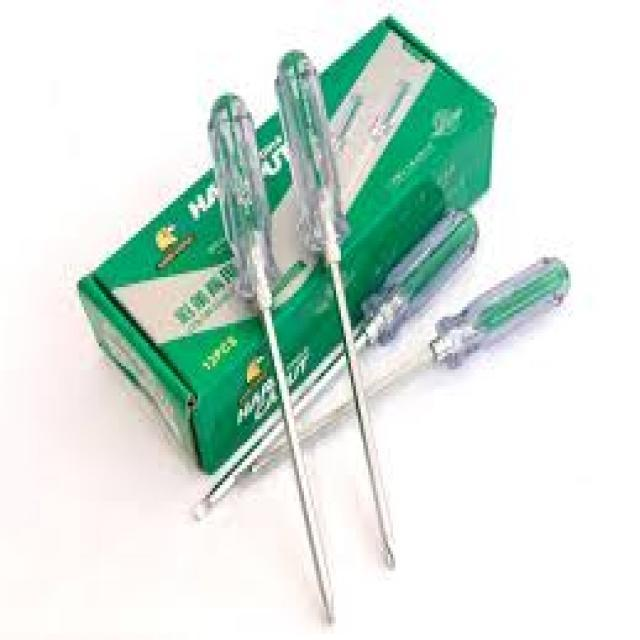screwdriver: (190, 201, 482, 528), (200, 76, 339, 624), (246, 249, 570, 480), (276, 43, 406, 574)
